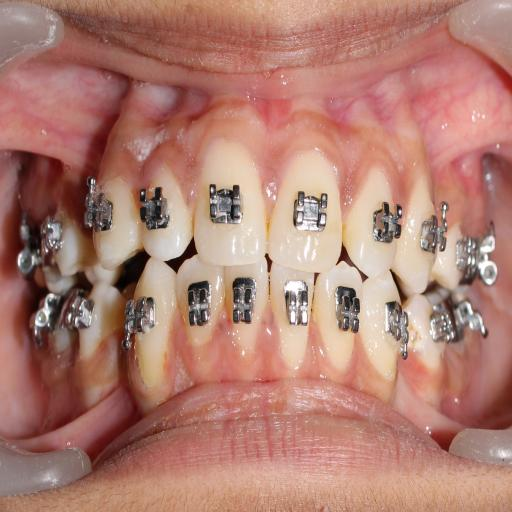correct_brace: (204, 176, 247, 232), (290, 182, 328, 233), (138, 178, 172, 235), (420, 206, 448, 261), (372, 197, 404, 243), (85, 186, 115, 228)
incorrect_brace: (343, 159, 400, 278), (140, 163, 194, 250)
